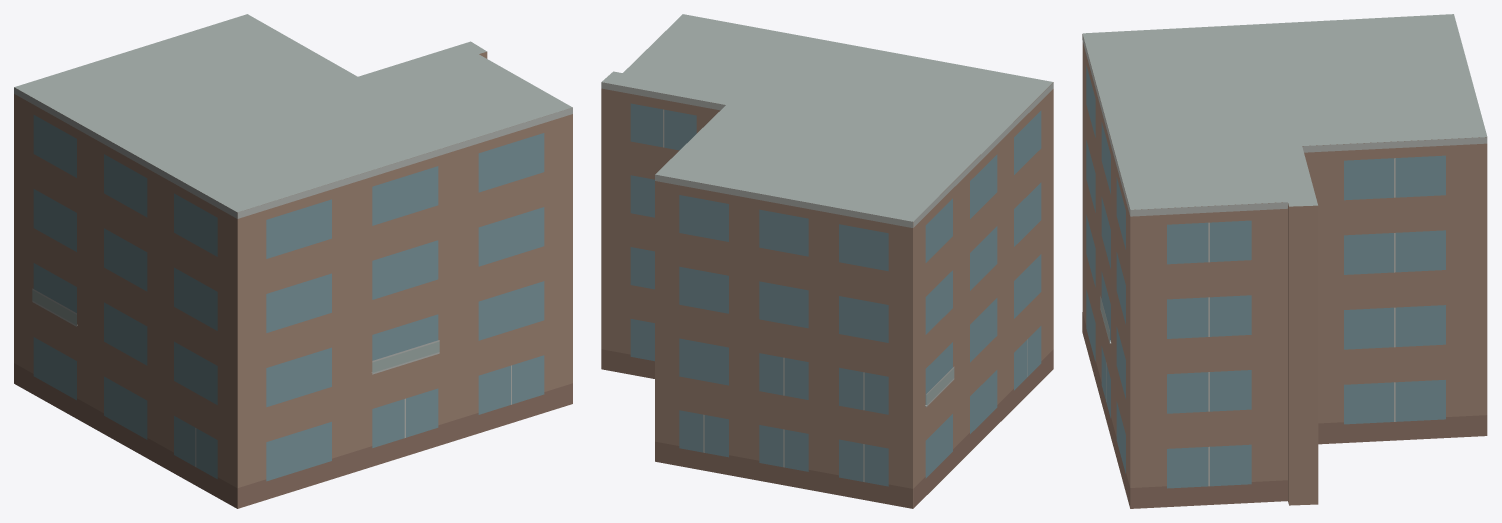
Rendered from survey-upis-32870377.glb.
3 renders of one model, left to right at view 1: azimuth 30°, elevation 25°; view 2: azimuth 150°, elevation 25°; view 3: azimuth 270°, elevation 25°, orthographic. The views are drawn at different scales.
Parts seen in each view (by area): view 1: survey-upis-32870377.tmp; view 2: survey-upis-32870377.tmp; view 3: survey-upis-32870377.tmp.
Boxes of the visible parts, x1,y1,x2,y2 form: survey-upis-32870377.tmp: (14, 14, 572, 508); survey-upis-32870377.tmp: (601, 14, 1053, 508); survey-upis-32870377.tmp: (1082, 14, 1487, 508).
Bounding box in the file's own units: 15.48 × 11 × 13.52.
